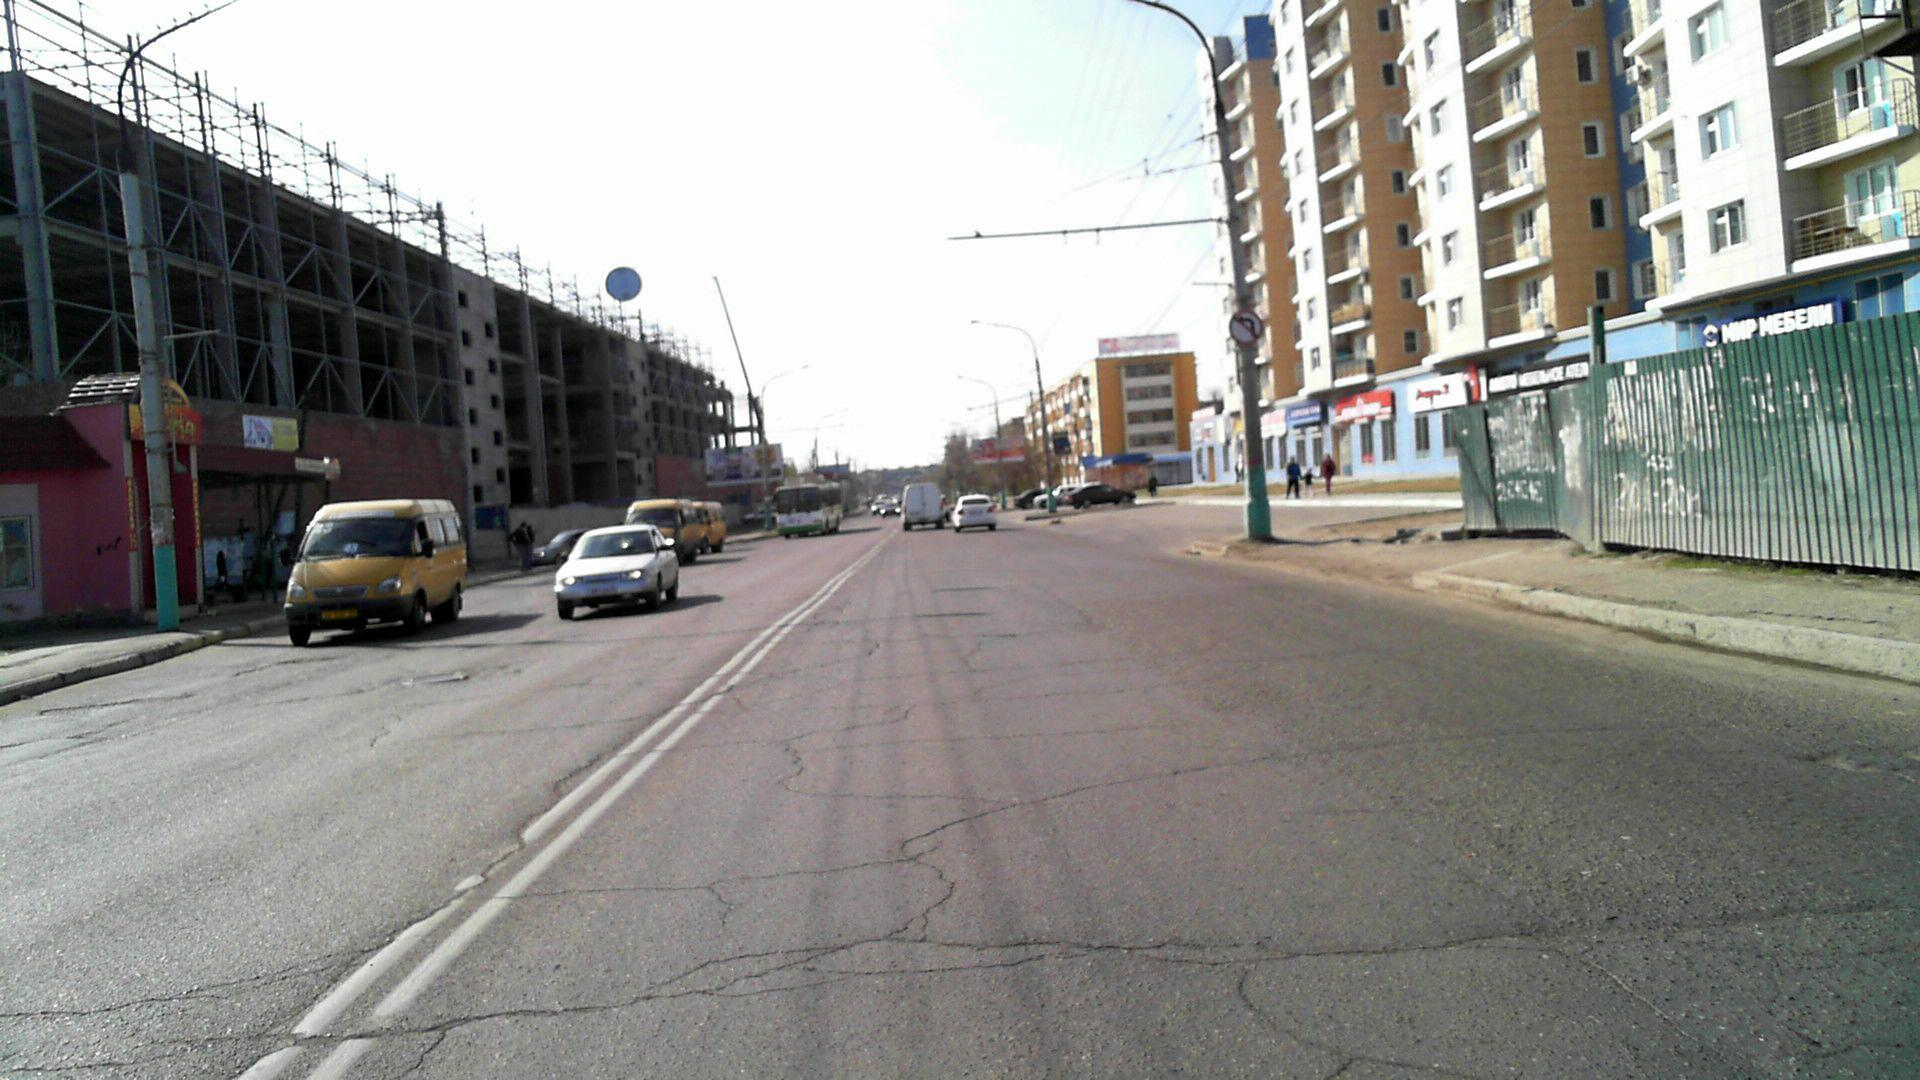3_18_2: (1226, 309, 1267, 349)
